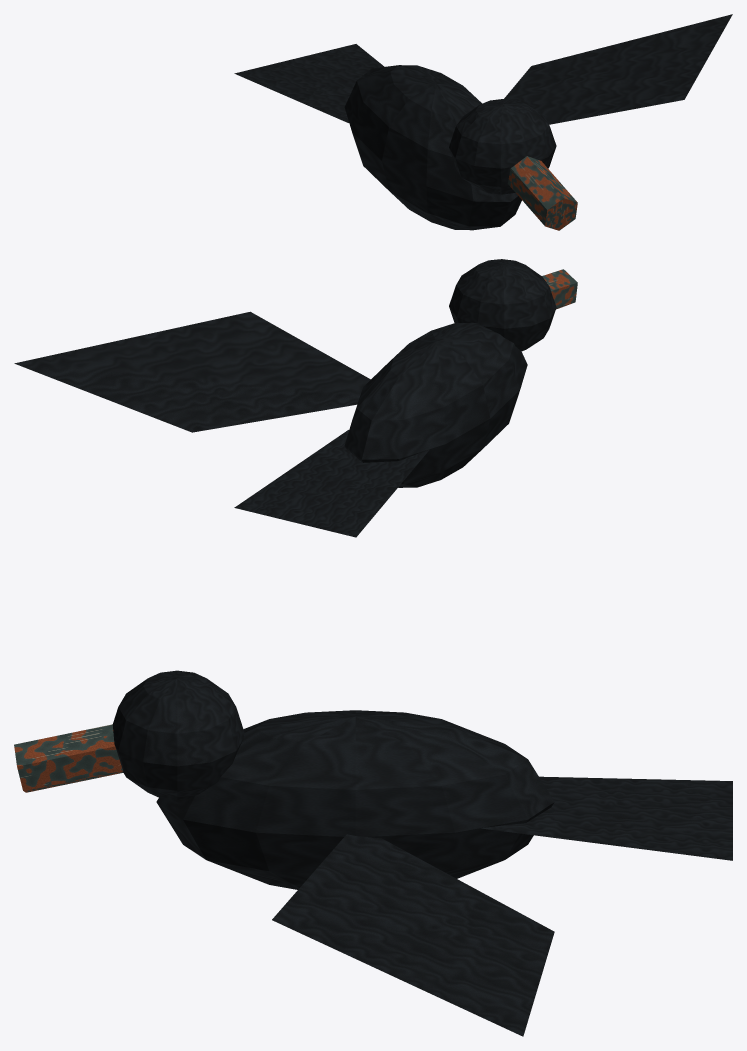
The model's file is crow.glb.
The picture shows the model from 3 angles, top to bottom: view 1: azimuth 30°, elevation 25°; view 2: azimuth 150°, elevation 25°; view 3: azimuth 270°, elevation 25°; orthographic projection. The views are drawn at different scales.
Parts seen in each view (by area): view 1: crow__BODY, crow__WING_R; view 2: crow__BODY, crow__WING_R; view 3: crow__BODY, crow__WING_R.
Boxes of the visible parts, x1,y1,x2,y2 form: crow__BODY: (234, 44, 577, 230); crow__WING_R: (504, 14, 732, 124); crow__BODY: (234, 259, 577, 537); crow__WING_R: (14, 311, 370, 432); crow__BODY: (14, 670, 732, 889); crow__WING_R: (272, 834, 554, 1036).
Size of the model in its own units: 1.06 by 0.22 by 0.6858.
Materials: 2 (2 with a texture image).
